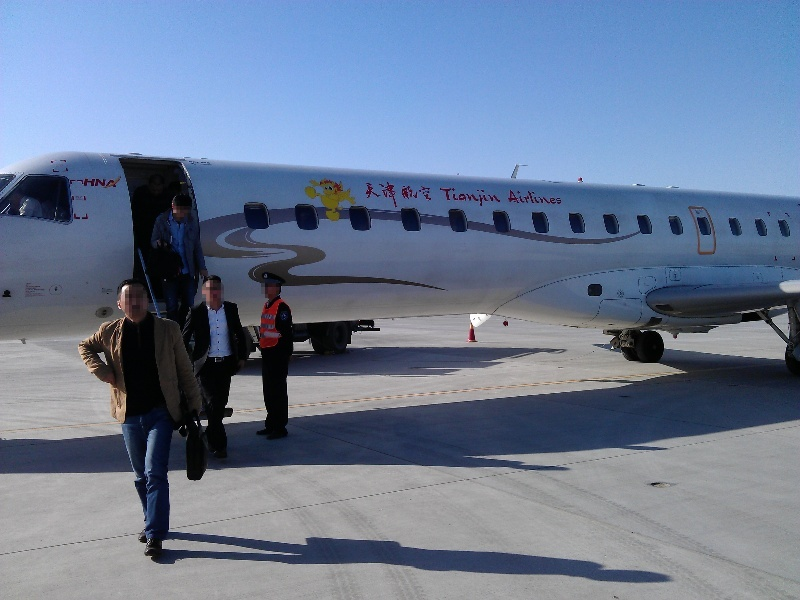text: (369, 181, 384, 211), (385, 181, 400, 211), (401, 181, 416, 211), (417, 181, 432, 211), (449, 186, 464, 208), (465, 186, 480, 208), (481, 186, 496, 208), (513, 190, 528, 205), (529, 190, 544, 205), (545, 190, 560, 205), (438, 186, 448, 208), (97, 176, 112, 189), (84, 176, 96, 189), (363, 181, 368, 211), (497, 186, 502, 208), (113, 176, 121, 189), (433, 181, 435, 211), (508, 190, 512, 205), (561, 190, 563, 205)
